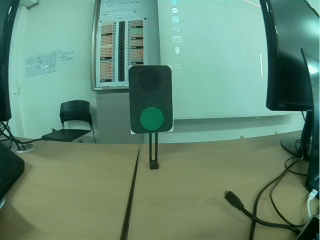green_light: (132, 66, 170, 131)
